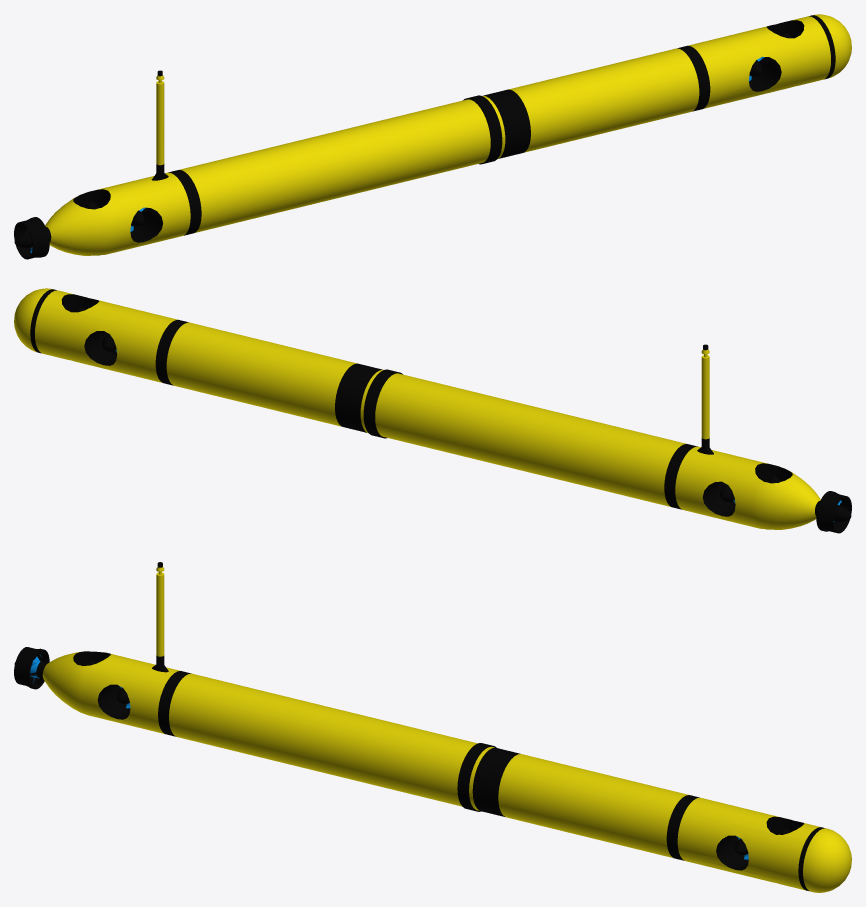
3 renders of one model, top to bottom at view 1: azimuth 30°, elevation 25°; view 2: azimuth 150°, elevation 25°; view 3: azimuth 330°, elevation 25°, orthographic.
Parts seen in each view (by area): view 1: Body, Tail_1, T200; view 2: Body, Tail_1, T200; view 3: Body, Tail_1, T200.
Part boxes in pixels (x1,y1,x2,y2): Body: (168, 14, 851, 235); Tail_1: (45, 70, 190, 255); T200: (14, 217, 51, 259); Body: (14, 288, 697, 509); Tail_1: (675, 344, 820, 529); T200: (815, 491, 851, 533); Body: (158, 671, 851, 892); Tail_1: (42, 562, 180, 733); T200: (14, 647, 49, 689).
Size of the model in its own units: 2.28 by 0.161 by 0.4364.
